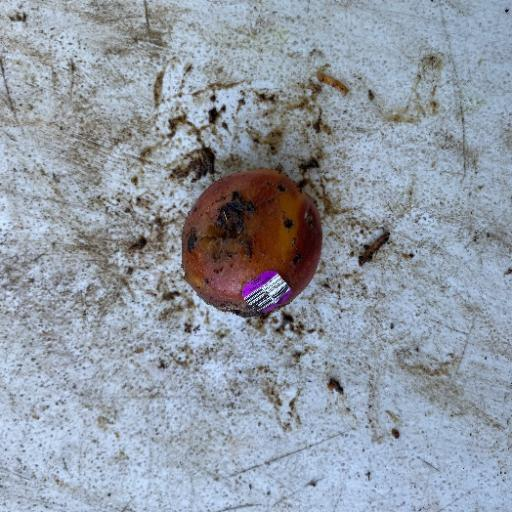Waste: (179, 167, 323, 319)
